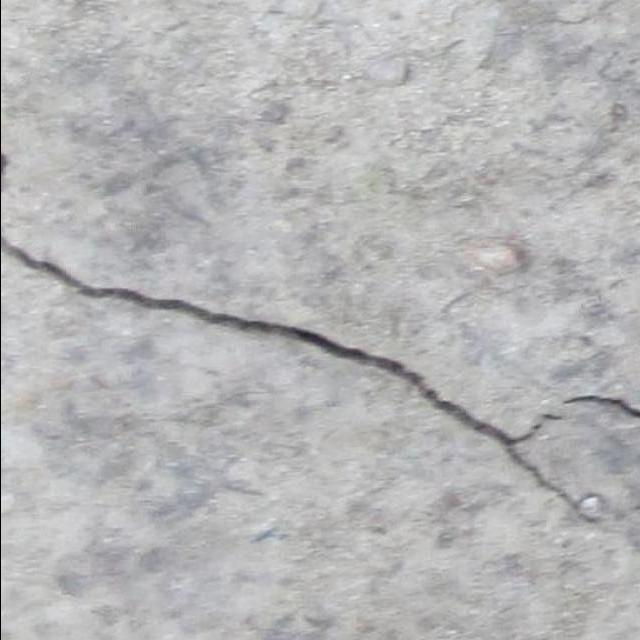Crack: (2, 235, 634, 522)
